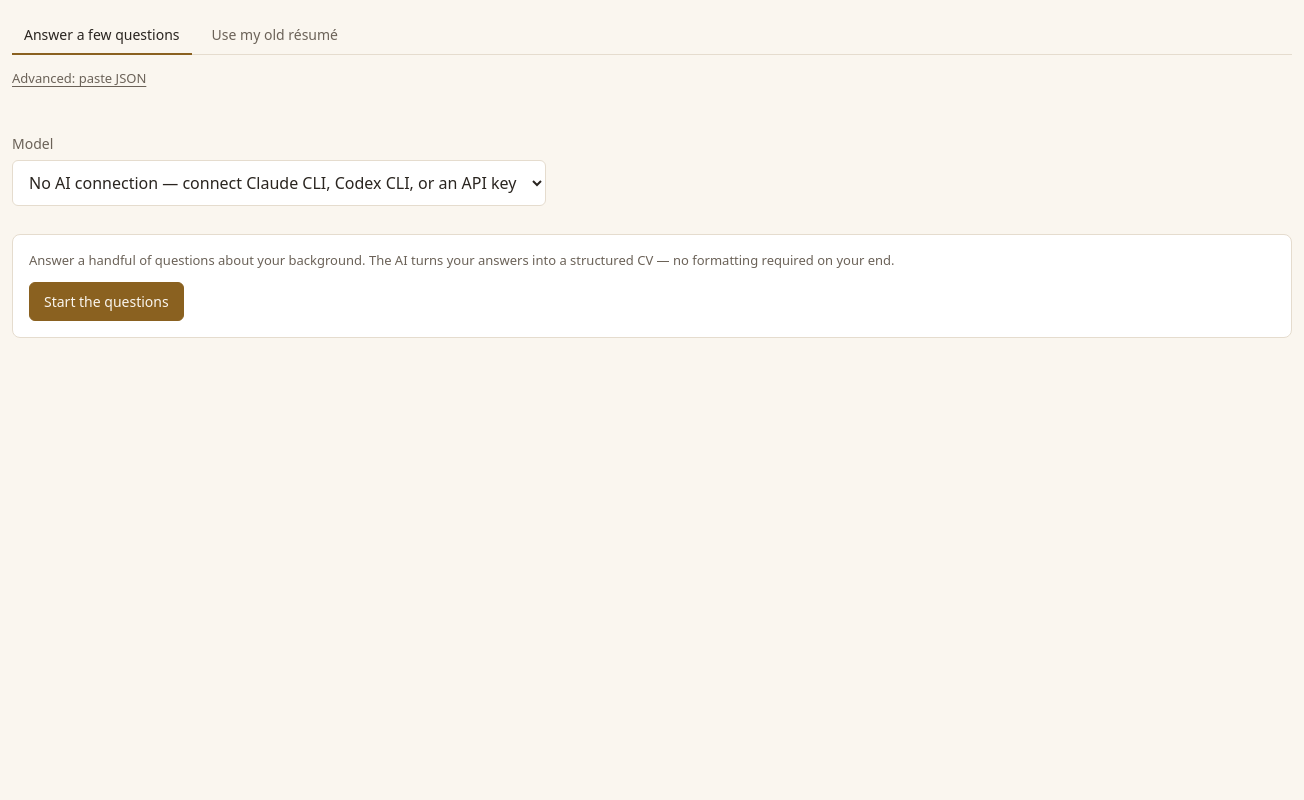
Test: CVBuilder › switching to the upload tab renders the upload panel
Click the tab "Use my old résumé": (275, 36) [200, 16, 350, 55]
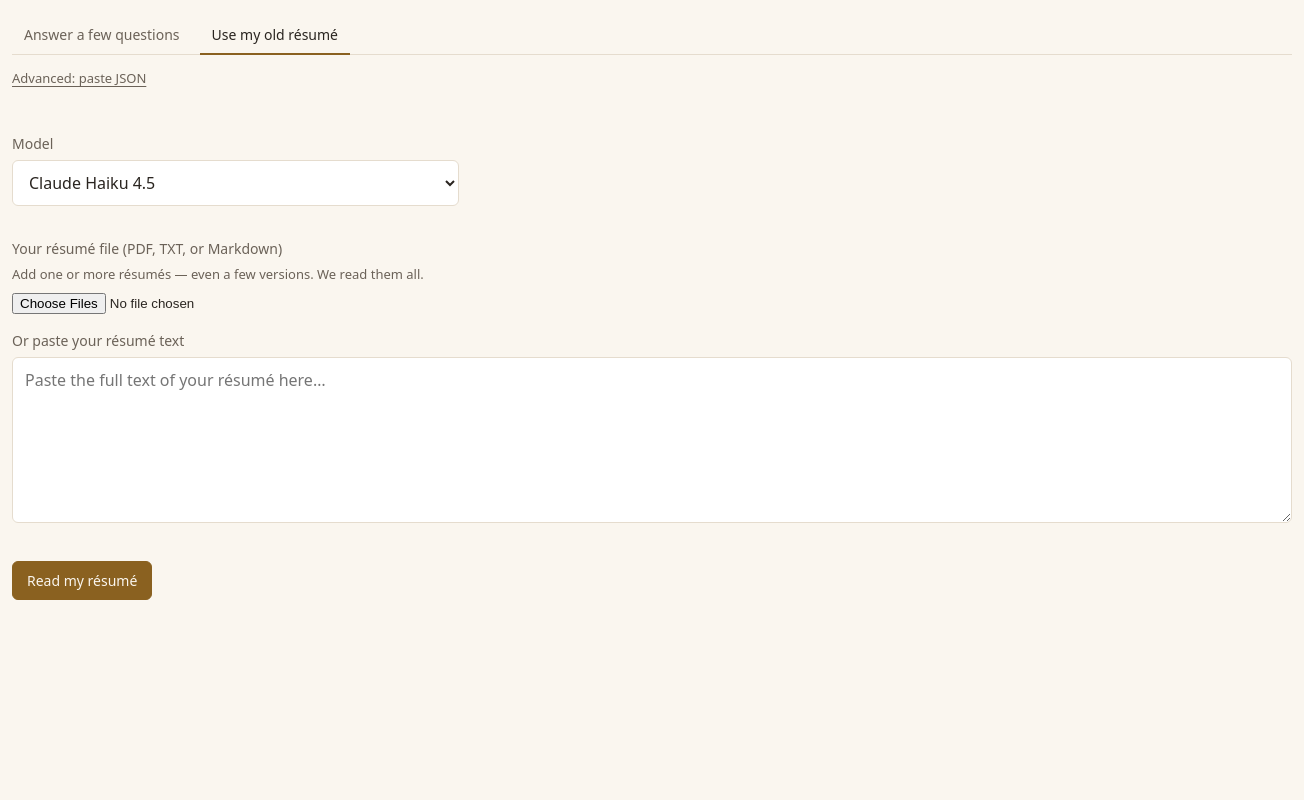
Check: the text "Or paste your résumé text" is shown, box [12, 331, 184, 350]
